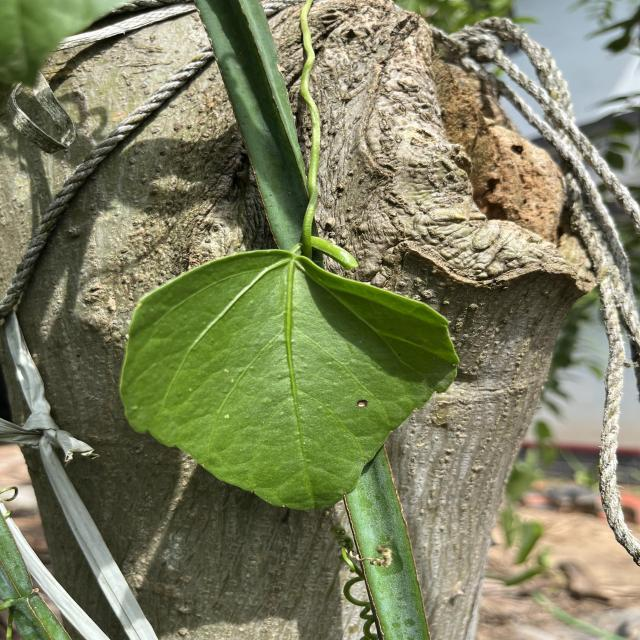Cissus quadrangularis: (114, 242, 464, 521)
